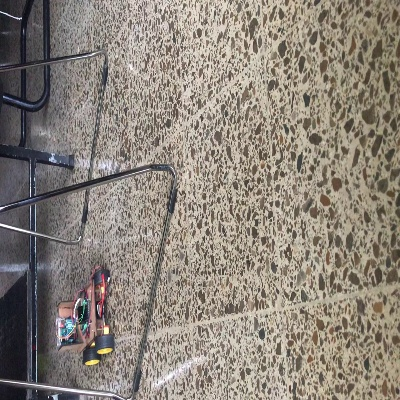Robot: (57, 266, 114, 366)
